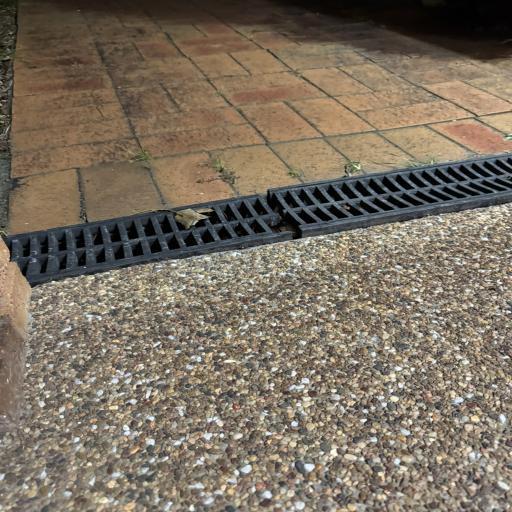gutter: (3, 153, 512, 286)
